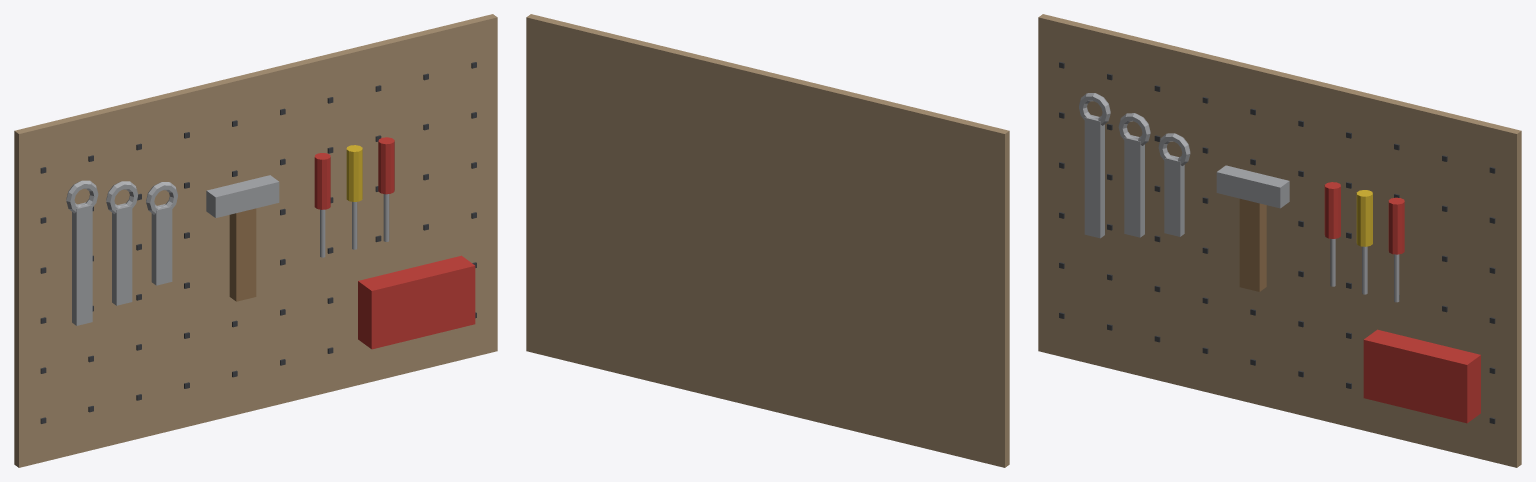
File: pegboard.glb
3 renders of one model, left to right at view 1: azimuth 30°, elevation 25°; view 2: azimuth 150°, elevation 25°; view 3: azimuth 330°, elevation 25°, orthographic.
Visible parts, largest first — view 1: pegboard; view 2: pegboard; view 3: pegboard.
Part boxes in pixels (box(x1,y1,x2,y2)): pegboard: box(14, 14, 497, 467); pegboard: box(526, 14, 1009, 467); pegboard: box(1038, 14, 1521, 467).
Size of the model in its own units: 1.2 by 0.8 by 0.08.
